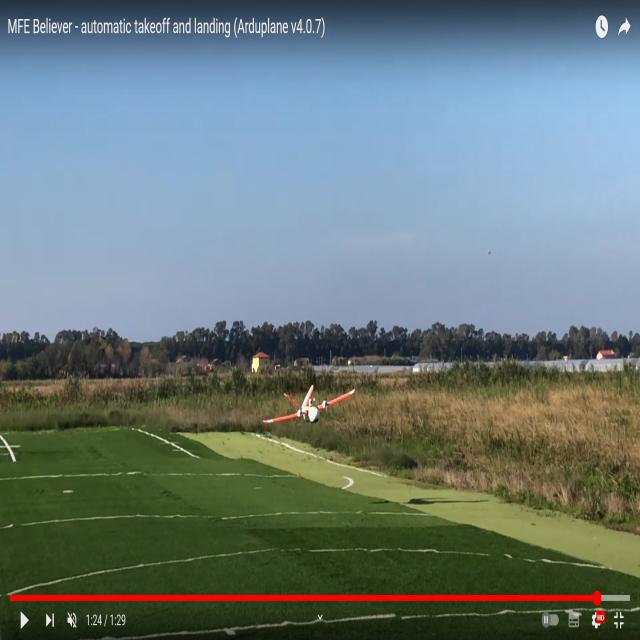iha: (295, 393, 320, 425)
